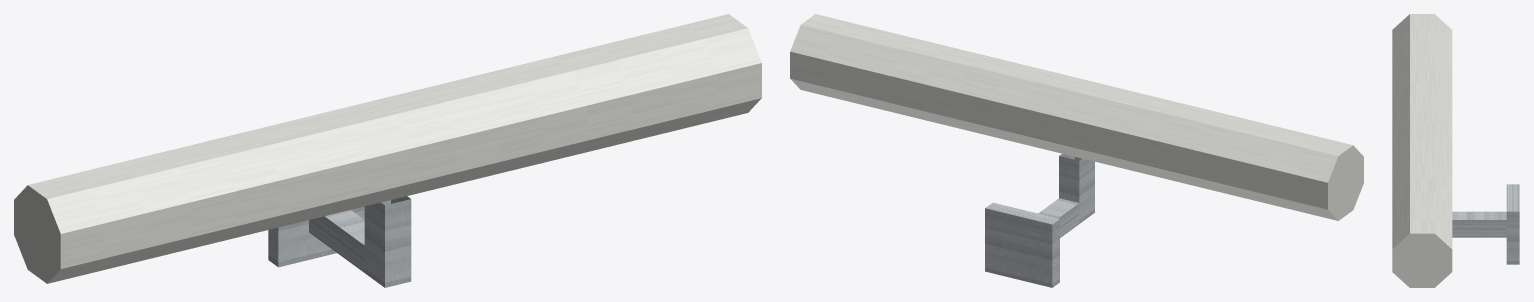
Rendered from level.obj.
3 views of the same model, side by side, from view 1: azimuth 30°, elevation 25°; view 2: azimuth 150°, elevation 25°; view 3: azimuth 270°, elevation 25° (orthographic). The views are drawn at different scales.
Visible parts, largest first — view 1: handrail_wall_white_round_level; view 2: handrail_wall_white_round_level; view 3: handrail_wall_white_round_level.
Boxes of the visible parts, box(x1,y1,x2,y2) form: handrail_wall_white_round_level: box(14, 14, 761, 287); handrail_wall_white_round_level: box(790, 14, 1363, 287); handrail_wall_white_round_level: box(1392, 14, 1519, 287).
Bounding box in the file's own units: 1 × 0.2702 × 0.2452.
